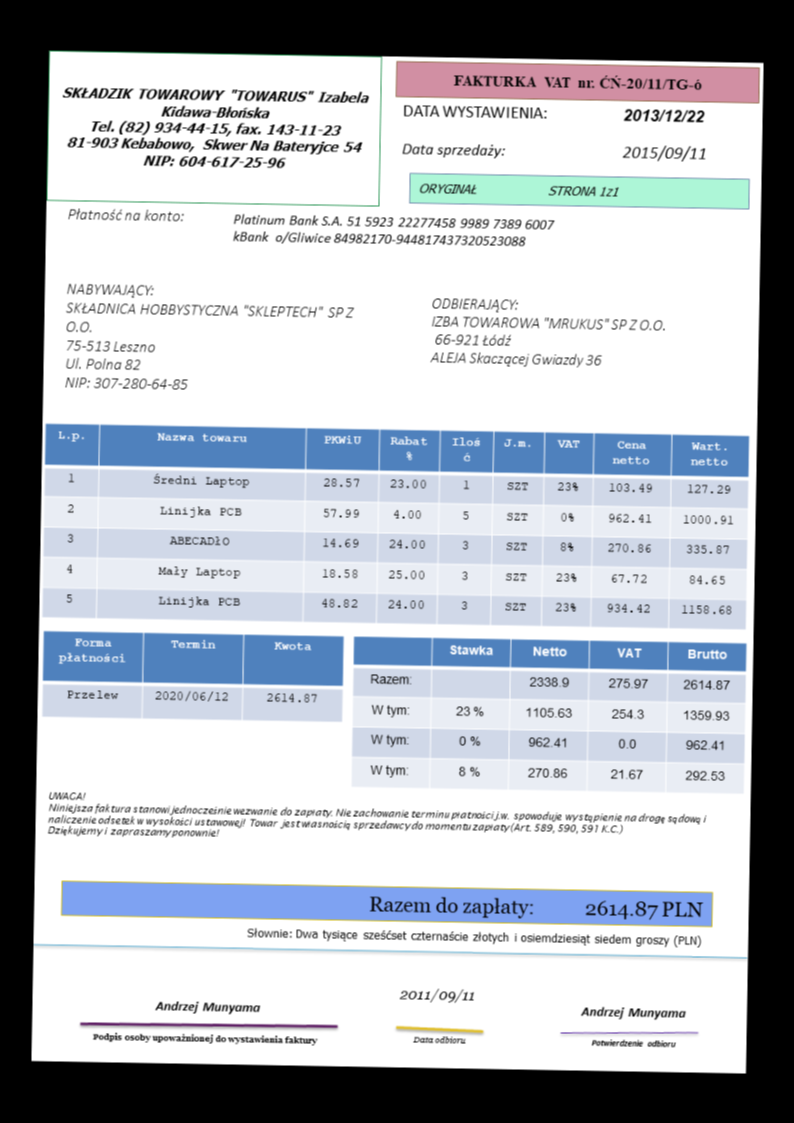Table: (40, 422, 750, 631), (348, 632, 748, 798), (40, 629, 345, 723)
TextBox: (45, 787, 712, 848), (61, 277, 358, 397), (58, 81, 374, 174), (427, 292, 667, 372), (244, 922, 703, 953), (229, 210, 556, 251), (366, 889, 704, 924), (448, 69, 703, 94), (416, 176, 621, 200), (89, 1029, 319, 1047), (398, 98, 546, 123), (399, 137, 507, 161), (64, 203, 184, 224), (150, 997, 265, 1016), (619, 140, 708, 164), (578, 1003, 687, 1022), (620, 104, 707, 126), (395, 984, 476, 1004), (587, 1035, 676, 1050), (409, 1031, 468, 1048)
